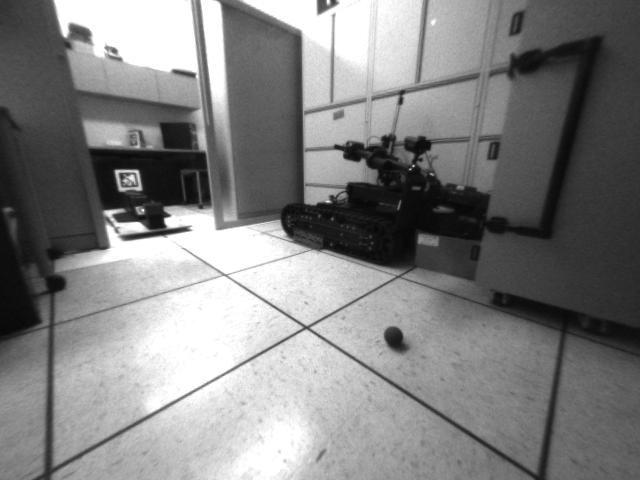dogtoy: (376, 321, 411, 352)
